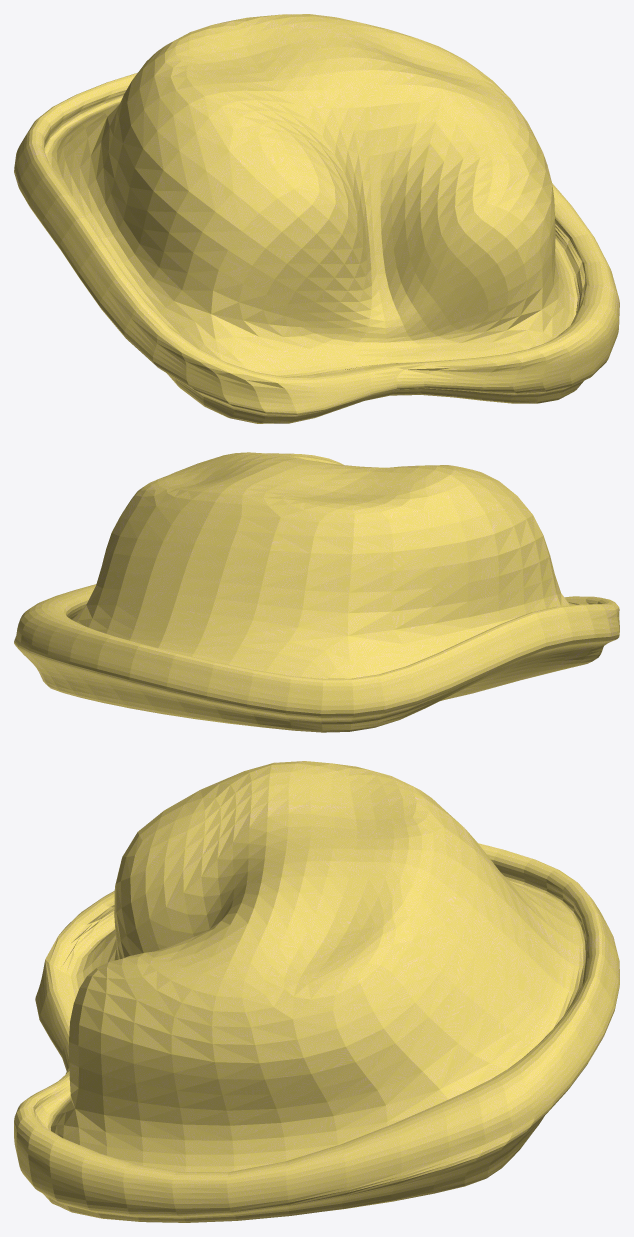
Rendered from pelmen.dae.
The picture shows the model from 3 angles, top to bottom: view 1: azimuth 30°, elevation 25°; view 2: azimuth 150°, elevation 25°; view 3: azimuth 270°, elevation 25°; orthographic projection. The views are drawn at different scales.
Parts seen in each view (by area): view 1: pelmen10_1; view 2: pelmen10_1; view 3: pelmen10_1.
Part boxes in pixels (box(x1,y1,x2,y2)): pelmen10_1: box(14, 14, 619, 423); pelmen10_1: box(14, 452, 619, 732); pelmen10_1: box(14, 761, 619, 1222).
Size of the model in its own units: 13.1 by 12.77 by 7.06.
